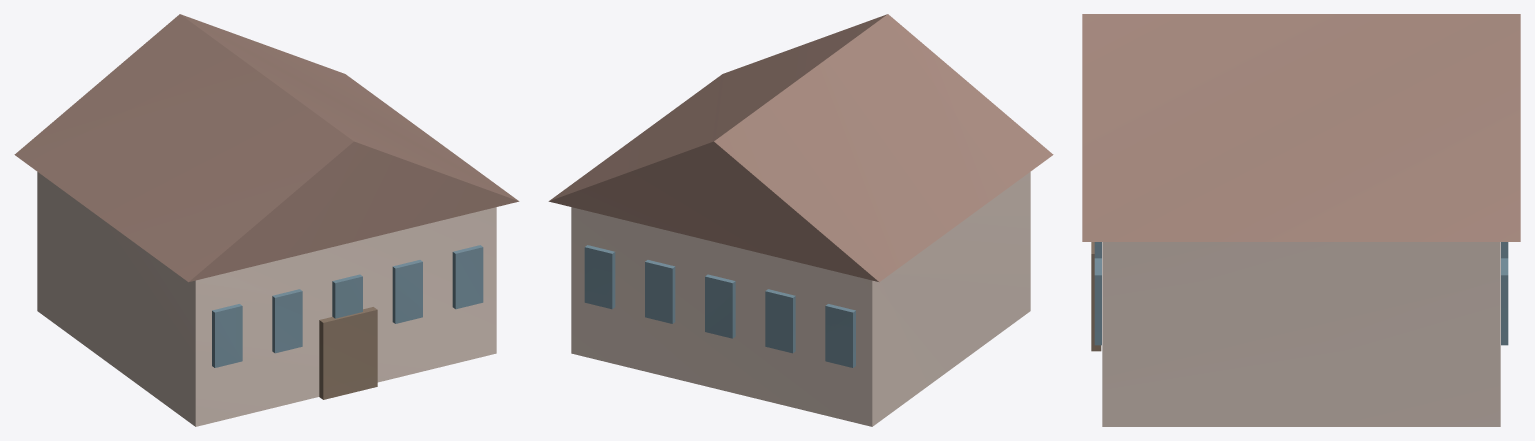
The model's file is market-02.glb.
3 renders of one model, left to right at view 1: azimuth 30°, elevation 25°; view 2: azimuth 150°, elevation 25°; view 3: azimuth 270°, elevation 25°, orthographic. The views are drawn at different scales.
Visible parts, largest first — view 1: world; view 2: world; view 3: world.
Part boxes in pixels (left/top/right/bottom): world: left=14, top=14, right=519, bottom=426; world: left=548, top=14, right=1053, bottom=426; world: left=1082, top=14, right=1520, bottom=426.
Size of the model in its own units: 1.65 by 1.22 by 1.51.
